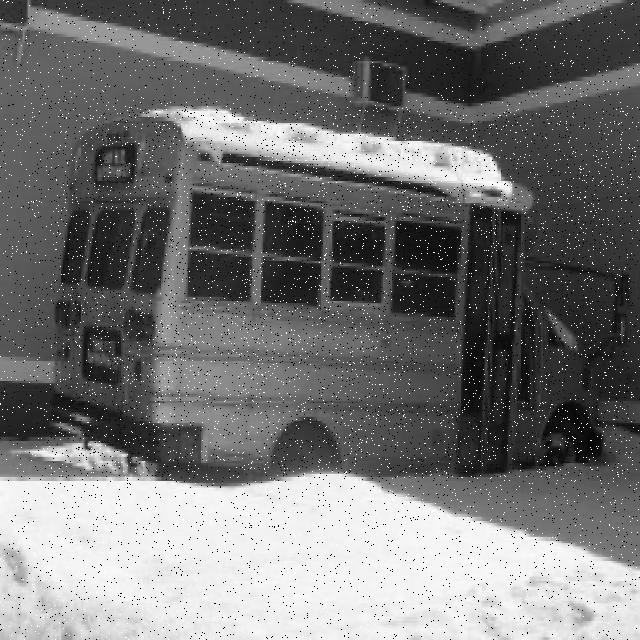Bus- Small: (50, 108, 633, 479)
